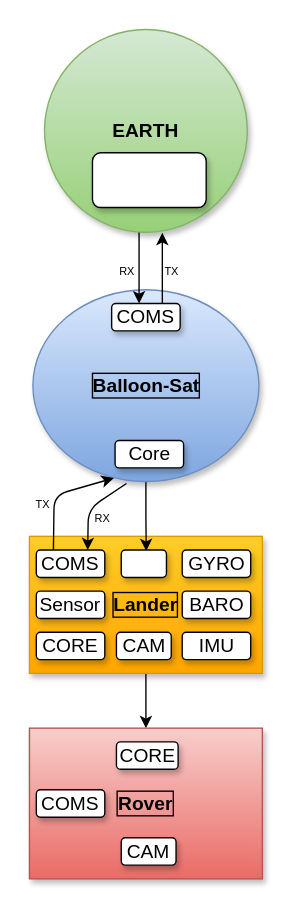
This 295x912 diagram has some shape labels left out. Here are the shapes that lost their labels. From the top down, the centre of each, then its label:
At pixel 150 181: "GROUND CONTROL".
At pixel 144 565: "UC".
